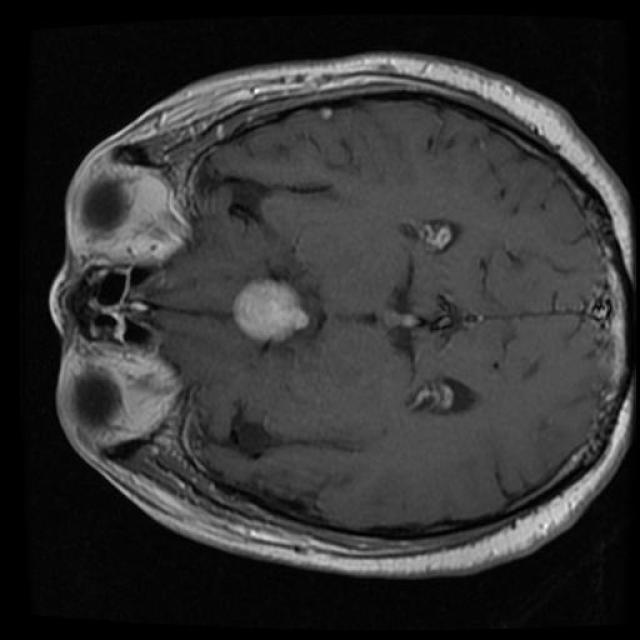Pituitary: (234, 278, 310, 342)
